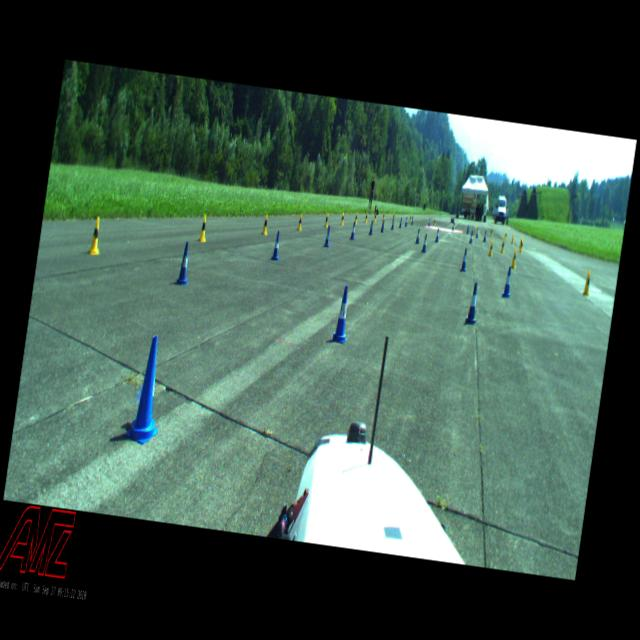blue_cone: (124, 334, 172, 446), (330, 285, 354, 344), (176, 240, 194, 285), (466, 281, 482, 324), (502, 266, 514, 298), (272, 231, 284, 260), (460, 248, 470, 272), (324, 225, 332, 247), (422, 235, 428, 252), (350, 223, 356, 239), (415, 228, 421, 244), (380, 219, 386, 232), (369, 220, 374, 235), (435, 228, 440, 242), (469, 231, 474, 243), (391, 218, 395, 230), (483, 231, 487, 242), (399, 217, 403, 228), (405, 217, 408, 227), (466, 224, 469, 233), (476, 228, 478, 238), (412, 216, 414, 225), (452, 222, 454, 230), (428, 218, 430, 225)
yellow_cone: (88, 216, 104, 256), (198, 214, 210, 242), (583, 270, 592, 296), (262, 213, 270, 236), (297, 214, 304, 231), (512, 249, 518, 268), (488, 240, 494, 256), (324, 212, 330, 228), (340, 212, 346, 225), (500, 240, 506, 252), (373, 212, 378, 222), (520, 240, 524, 252), (518, 236, 522, 248), (354, 213, 358, 224), (504, 231, 508, 240), (365, 212, 368, 223), (511, 234, 514, 244), (433, 218, 436, 226), (382, 212, 385, 220), (410, 214, 412, 222), (490, 228, 492, 235)
